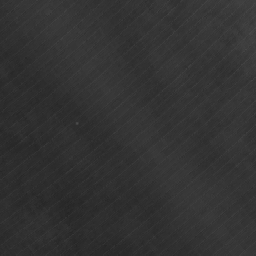Target: (74, 120, 80, 125)
